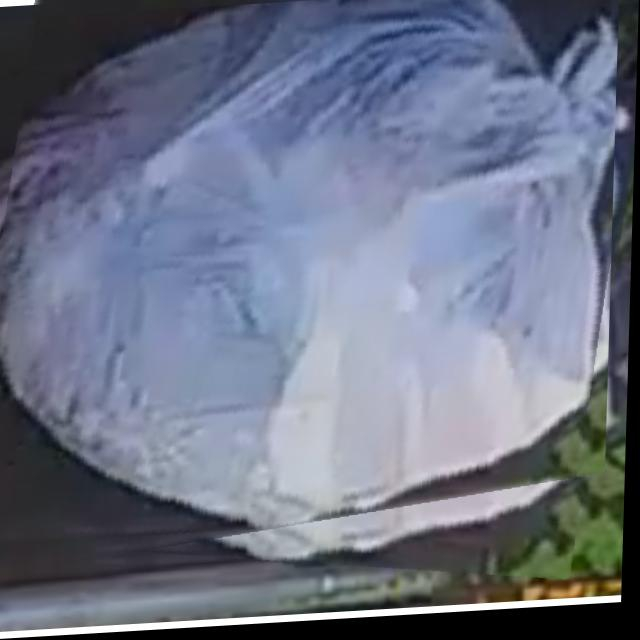other_trashbag: (0, 0, 618, 539)
